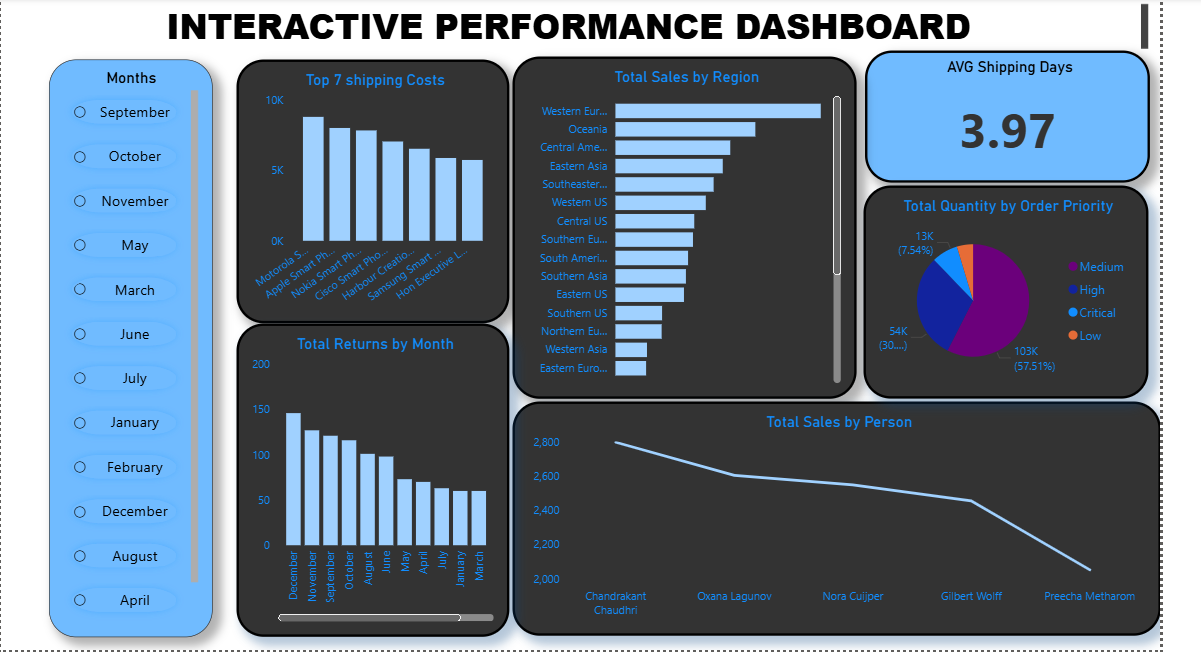

Layout of this report page (visuals, bound fields, positions):
{"tool":"powerbi","page":{"name":"Page 1","canvas":[1280,720],"ordinal":0},"visuals":[{"type":"textbox","box":[14.9,0,1257.3,61.3],"z":0},{"type":"card","title":"AVG Shipping Days","fields":{"Values":["Orders.Avg Shipping Days"]},"box":[954.1,58,314.7,145.8],"z":1000},{"type":"clusteredColumnChart","title":"Top 7 shipping Costs","fields":{"Category":["Orders.Product Name"],"Y":["Orders.Shipping Cost"]},"box":[260.1,67.9,301.5,291.5],"z":2000},{"type":"clusteredBarChart","title":"Total Sales by Region","fields":{"Category":["Returns.Region"],"Y":["Returns.Sales"]},"box":[565,64.3,379.8,378],"z":3000},{"type":"lineChart","title":"Total Sales by Person","fields":{"Y":["People.Sales"],"Category":["People.Person"]},"box":[565,446,716.2,258.9],"z":4000},{"type":"pieChart","title":"Total Quantity by Order Priority","fields":{"Category":["Orders.Order Priority"],"Y":["Orders.Quantity"]},"box":[952.5,207.1,314.7,235.2],"z":5000},{"type":"clusteredColumnChart","title":"Total Returns by Month","fields":{"Category":["Returns (2).Month"],"Y":["Returns (2).Returned"]},"box":[260.1,359.5,301.5,346.2],"z":6000},{"type":"listSlicer","title":"Months","fields":{"Values":["Returns (2).Month"]},"box":[53,67.9,180.6,637.7],"z":7000}]}

Visuals, with their boxes in screenshot pixels (x1, y1, x2, y2):
textbox: (20, 0, 1140, 55)
"AVG Shipping Days" card: (856, 52, 1137, 182)
"Top 7 shipping Costs" clusteredColumnChart: (238, 61, 507, 320)
"Total Sales by Region" clusteredBarChart: (510, 57, 848, 394)
"Total Sales by Person" lineChart: (510, 397, 1148, 628)
"Total Quantity by Order Priority" pieChart: (855, 185, 1135, 394)
"Total Returns by Month" clusteredColumnChart: (238, 320, 507, 629)
"Months" listSlicer: (53, 61, 214, 629)
